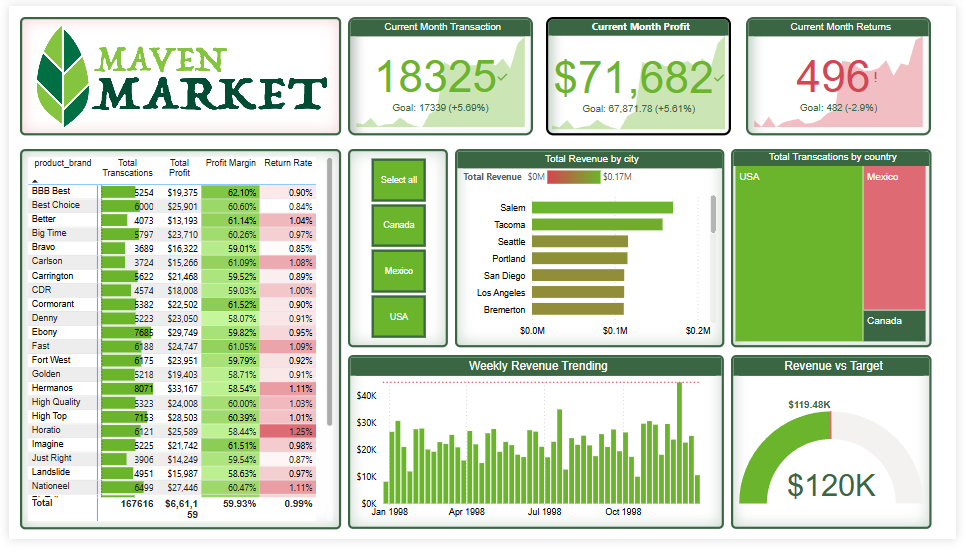

This screenshot's page, from the dashboard's own definition file:
{"tool":"powerbi","page":{"name":"Topline Performance","canvas":[1280,720],"ordinal":0},"visuals":[{"type":"image","box":[14.8,14.8,433.6,159.8],"z":0},{"type":"pivotTable","fields":{"Values":["Measure Table.Total Transcations","Measure Table.Total Profit","Measure Table.Profit Margin","Measure Table.Return Rate"],"Rows":["Products.product_brand"]},"box":[15.5,193.5,433.5,513.5],"z":1000},{"type":"kpi","title":"Current Month Transaction","fields":{"Indicator":["Measure Table.Total Transcations"],"TrendLine":["Calendar.Start of Month"],"Goal":["Measure Table.Last Month Transactions"]},"box":[458.1,14.2,250,160],"z":2000},{"type":"kpi","title":"Current Month Returns","fields":{"TrendLine":["Calendar.Start of Month"],"Indicator":["Measure Table.Total Returns"],"Goal":["Measure Table.Last Month Return"]},"box":[996.1,14.2,250,160],"z":3000},{"type":"kpi","title":"Current Month Profit","fields":{"TrendLine":["Calendar.Start of Month"],"Indicator":["Measure Table.Total Profit"],"Goal":["Measure Table.Last Month Profit"]},"box":[725.2,14.2,250.3,160],"z":4000},{"type":"barChart","title":"Total Revenue by city","fields":{"Category":["Stores.city"],"Y":["Measure Table.Total Revenue"]},"box":[602.6,193.5,363.9,268.4],"z":5000},{"type":"slicer","fields":{"Values":["Stores.country"]},"box":[458.1,193.5,135.5,268.4],"z":6000},{"type":"treemap","fields":{"Values":["Measure Table.Total Transcations"],"Group":["Stores.country","Stores.state","Stores.city"]},"box":[975.5,193.5,271,268.4],"z":7000},{"type":"gauge","title":"Revenue vs Target","fields":{"Y":["Measure Table.Total Revenue"],"TargetValue":["Measure Table.Revenue Target"]},"box":[975.5,472.3,271,234.8],"z":8000},{"type":"clusteredColumnChart","title":"Weekly Revenue Trending","fields":{"Y":["Measure Table.Total Revenue"],"Category":["Calendar.Start of Week"]},"box":[458.1,472.3,508.4,234.8],"z":9000}]}

Visuals, with their boxes in screenshot pixels (x1, y1, x2, y2), scaled from the page's 1280x720 canvas onto the 966x554 screenshot:
image: pyautogui.locateOnScreen(11, 11, 338, 134)
pivotTable - Measure Table.Total Transcations x Measure Table.Total Profit: pyautogui.locateOnScreen(12, 149, 339, 544)
"Current Month Transaction" kpi: pyautogui.locateOnScreen(346, 11, 534, 134)
"Current Month Returns" kpi: pyautogui.locateOnScreen(752, 11, 940, 134)
"Current Month Profit" kpi: pyautogui.locateOnScreen(547, 11, 736, 134)
"Total Revenue by city" barChart: pyautogui.locateOnScreen(455, 149, 729, 355)
slicer - Stores.country: pyautogui.locateOnScreen(346, 149, 448, 355)
treemap - Measure Table.Total Transcations x Stores.country: pyautogui.locateOnScreen(736, 149, 941, 355)
"Revenue vs Target" gauge: pyautogui.locateOnScreen(736, 363, 941, 544)
"Weekly Revenue Trending" clusteredColumnChart: pyautogui.locateOnScreen(346, 363, 729, 544)
